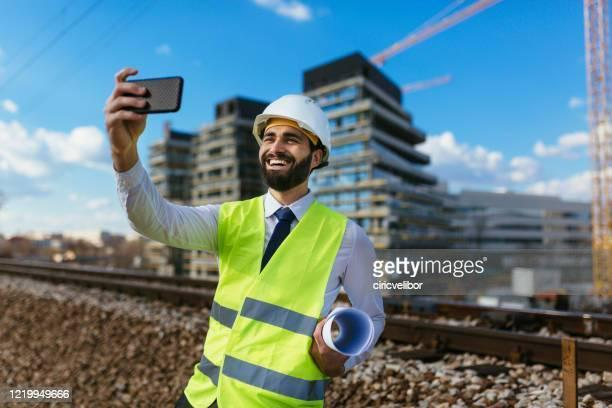helmet: (251, 94, 330, 166)
